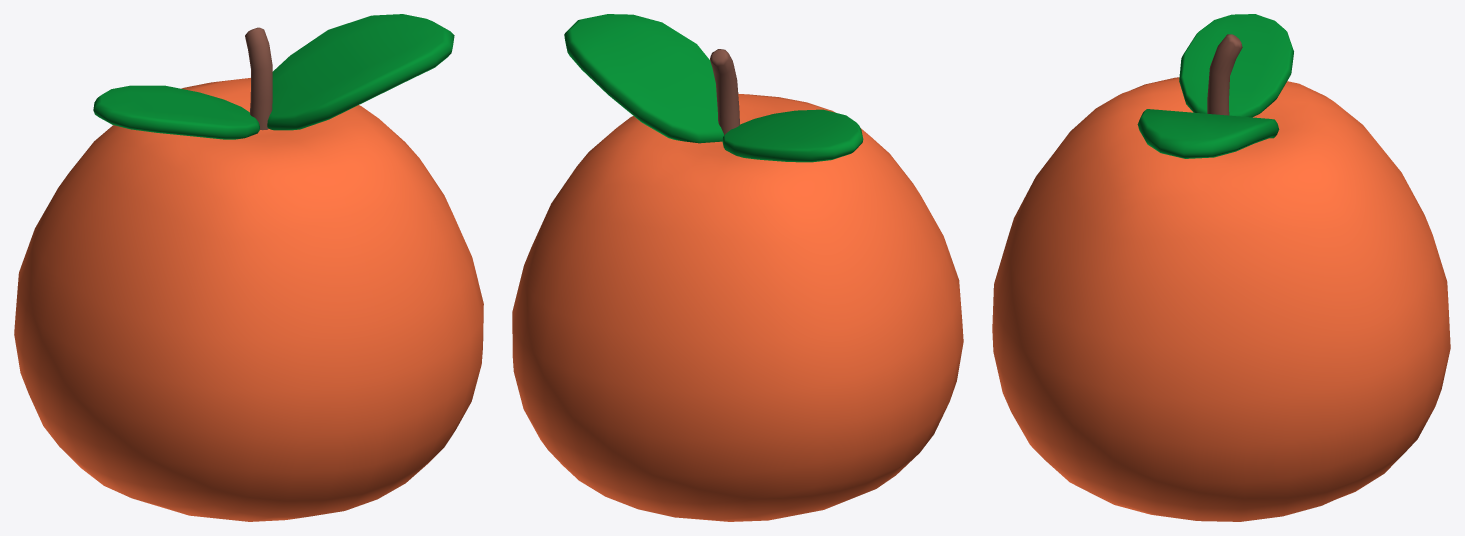
Rendered from Store_10_Apple_Sigh_3.glb.
3 views of the same model, side by side, from view 1: azimuth 30°, elevation 25°; view 2: azimuth 150°, elevation 25°; view 3: azimuth 270°, elevation 25° (orthographic). The views are drawn at different scales.
Parts seen in each view (by area): view 1: Store_10_Apple_Sigh_3; view 2: Store_10_Apple_Sigh_3; view 3: Store_10_Apple_Sigh_3.
Part boxes in pixels (x1,y1,x2,y2): Store_10_Apple_Sigh_3: [14, 14, 483, 521]; Store_10_Apple_Sigh_3: [512, 14, 963, 521]; Store_10_Apple_Sigh_3: [992, 14, 1450, 521].
Bounding box in the file's own units: 2.61 × 2.76 × 2.61.
1 material, 1 textured.
